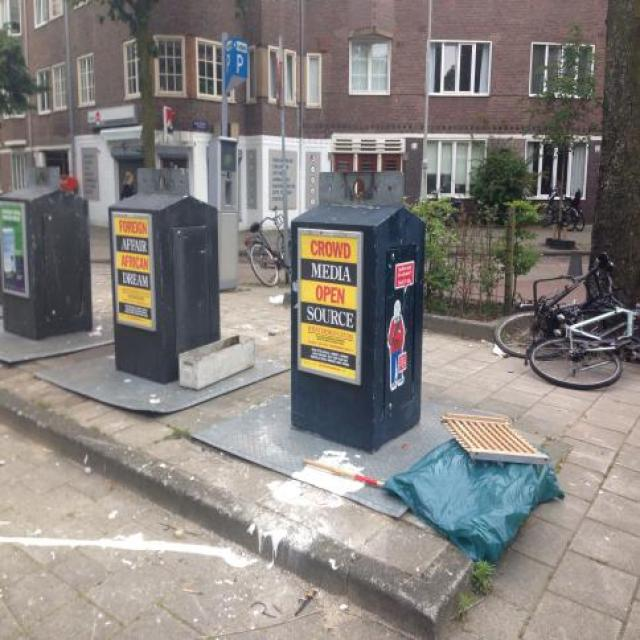Anorganik: (382, 422, 562, 553)
